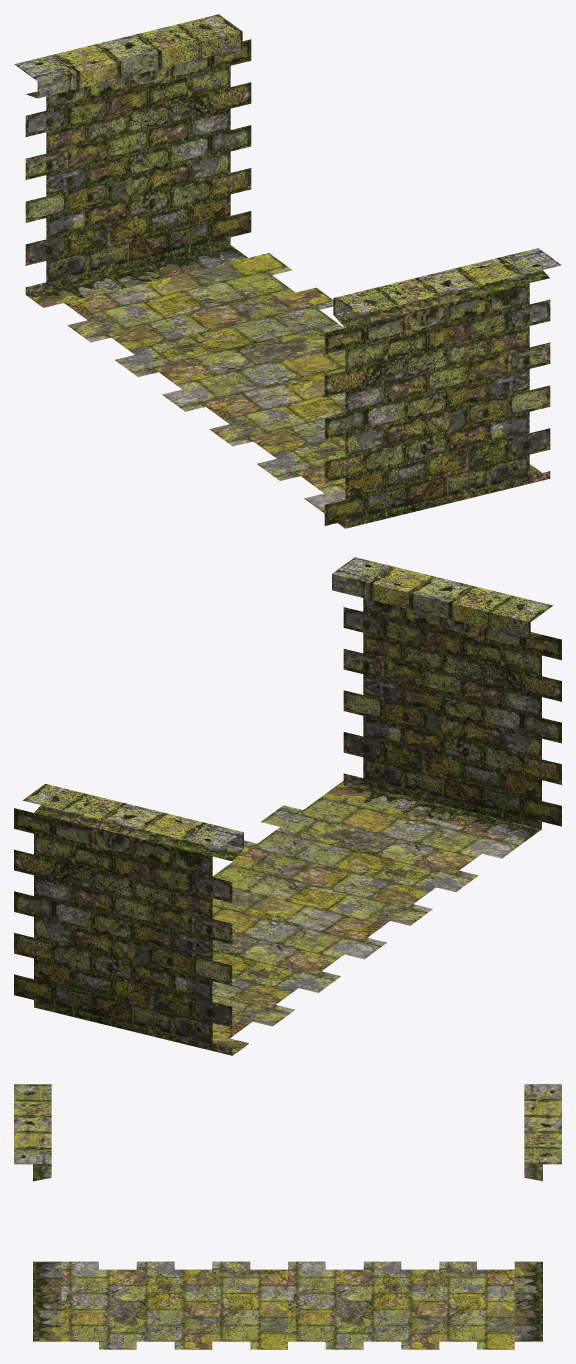
File: WallSectionNew.fbx
3 renders of one model, top to bottom at view 1: azimuth 30°, elevation 25°; view 2: azimuth 150°, elevation 25°; view 3: azimuth 270°, elevation 25°, orthographic. The views are drawn at different scales.
Visible parts, largest first — view 1: Wallsection; view 2: Wallsection; view 3: Wallsection.
Boxes of the visible parts, x1,y1,x2,y2 form: Wallsection: [14, 14, 561, 528]; Wallsection: [14, 557, 561, 1055]; Wallsection: [14, 1084, 561, 1349].
Bounding box in the file's own units: 12 × 10.36 × 29.
